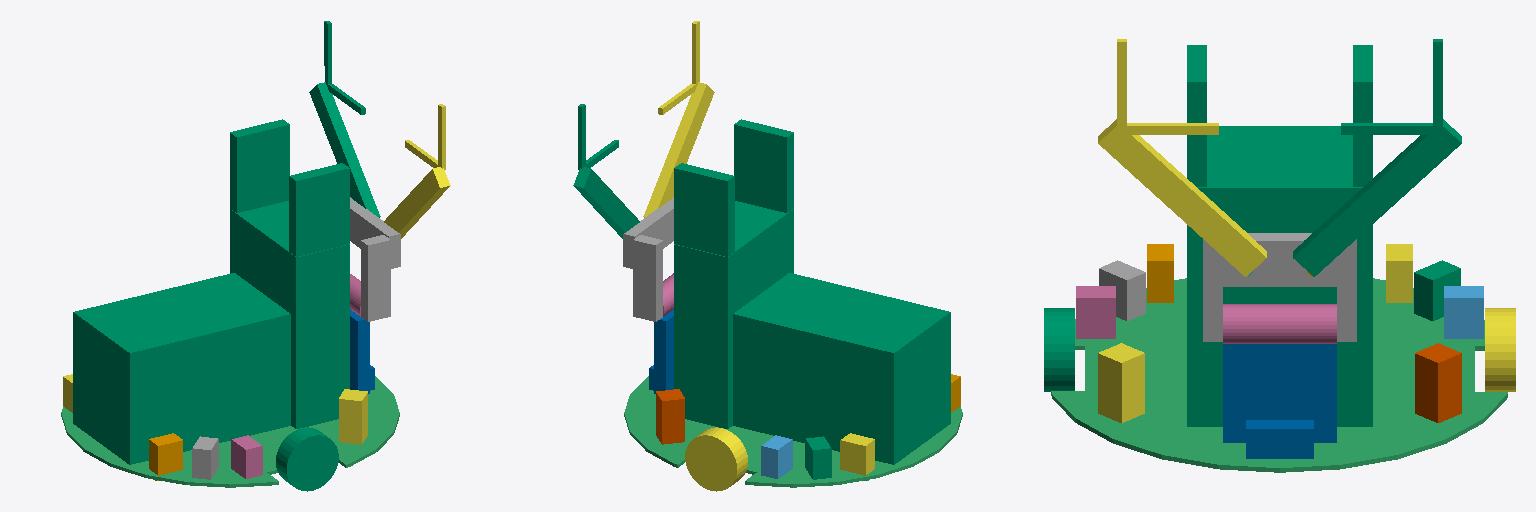
--- What the picture shows (computed from the rendered views, not written in the file) ---
The picture shows the robot from 3 angles, left to right: view 1: azimuth 30°, elevation 25°; view 2: azimuth 150°, elevation 25°; view 3: azimuth 270°, elevation 25°; orthographic projection.
Robot: pibot — 28 links, 27 joints (3 revolute, 2 continuous, 22 fixed); root link base_with_casters; default pose: all joints at 0.
Visible links, largest first — view 1: brainbox_with_battery, base_with_casters, grabber_mount, grabber_arm_left, right_wheel, grabber_arm_right, front_right_45deg_ir, grabber_to_base_1, rear_right_straight_ir, rear_right_90deg_ir, rear_right_45deg_ir; view 2: brainbox_with_battery, base_with_casters, grabber_mount, grabber_arm_right, left_wheel, grabber_arm_left, front_left_45deg_ir, grabber_to_base_1, rear_left_straight_ir, rear_left_90deg_ir, rear_left_45deg_ir; view 3: brainbox_with_battery, base_with_casters, grabber_to_base_1, grabber_arm_right, grabber_arm_left, grabber_mount, grabber_pole, front_right_45deg_ir, front_left_45deg_ir, front_middle_ir, left_wheel, right_wheel (+6 smaller).
Boxes of the visible links, x1,y1,x2,y2 form: brainbox_with_battery: [73, 119, 349, 464]; base_with_casters: [61, 376, 399, 487]; grabber_mount: [350, 197, 400, 321]; grabber_arm_left: [309, 21, 380, 217]; right_wheel: [276, 427, 338, 491]; grabber_arm_right: [384, 104, 450, 238]; front_right_45deg_ir: [339, 389, 367, 444]; grabber_to_base_1: [350, 309, 369, 393]; rear_right_straight_ir: [149, 433, 182, 475]; rear_right_90deg_ir: [231, 435, 262, 478]; rear_right_45deg_ir: [192, 436, 218, 479]; brainbox_with_battery: [674, 119, 950, 464]; base_with_casters: [624, 376, 962, 487]; grabber_mount: [623, 197, 673, 321]; grabber_arm_right: [643, 21, 714, 217]; left_wheel: [685, 427, 747, 491]; grabber_arm_left: [573, 104, 639, 238]; front_left_45deg_ir: [656, 389, 684, 444]; grabber_to_base_1: [654, 309, 673, 393]; rear_left_straight_ir: [840, 433, 874, 475]; rear_left_90deg_ir: [761, 435, 792, 478]; rear_left_45deg_ir: [805, 436, 831, 479]; brainbox_with_battery: [1187, 45, 1372, 426]; base_with_casters: [1051, 278, 1507, 472]; grabber_to_base_1: [1223, 344, 1336, 442]; grabber_arm_right: [1098, 39, 1266, 276]; grabber_arm_left: [1293, 39, 1461, 276]; grabber_mount: [1203, 233, 1356, 341]; grabber_pole: [1223, 304, 1336, 343]; front_right_45deg_ir: [1098, 343, 1144, 422]; front_left_45deg_ir: [1415, 343, 1461, 422]; front_middle_ir: [1246, 420, 1313, 458]; left_wheel: [1485, 308, 1515, 391]; right_wheel: [1044, 308, 1074, 391].
Bounding box of the posed robot: 0.1449 × 0.14 × 0.1491 m (x, y, z).
1 mesh visuals loaded from 1 distinct referenced files (1 Collada DAE).

URDF robot description (pibot):
<?xml version="1.0" encoding="utf-8"?>
<!-- =================================================================================== -->
<!-- |    This document was autogenerated by xacro from [local-path]/catkin_ws/src/pibot_description/models/iti0201_robot/urdf/generate_pibot.urdf.xacro | -->
<!-- |    EDITING THIS FILE BY HAND IS NOT RECOMMENDED                                 | -->
<!-- =================================================================================== -->
<robot name="pibot" xmlns:xacro="http://www.ros.org/wiki/xacro">
  <link name="base_with_casters">
    <inertial>
      <mass value="5"/>
      <inertia ixx="0.0061259375" ixy="0.0" ixz="0.0" iyy="0.0061259375" iyz="0.0" izz="0.01225"/>
    </inertial>
    <visual name="base_visual">
      <origin rpy="0 0 1.57" xyz="0.0745 -0.0725 0.0025"/>
      <geometry>
        <mesh filename="package://iti0201_robot/meshes/base_green.dae"/>
        <!--cylinder length="0.0015" radius="0.07"/-->
      </geometry>
    </visual>
    <collision name="base_collision">
      <origin rpy="0 0 1.57" xyz="0.0745 -0.0725 0.0025"/>
      <geometry>
        <mesh filename="package://iti0201_robot/meshes/base_green.dae"/>
        <!--cylinder length="0.0015" radius="0.07"/-->
      </geometry>
    </collision>
    <visual name="front_caster_visual">
      <origin rpy="0 0 0" xyz="0.035 0 0.0025"/>
      <geometry>
        <sphere radius="0.005"/>
      </geometry>
    </visual>
    <collision name="front_caster_collision">
      <origin rpy="0 0 0" xyz="0.035 0 0.0025"/>
      <geometry>
        <sphere radius="0.005"/>
      </geometry>
    </collision>
    <visual name="rear_caster_visual">
      <origin rpy="0 0 0" xyz="-0.035 0 0.0025"/>
      <geometry>
        <sphere radius="0.005"/>
      </geometry>
    </visual>
    <collision name="rear_caster_collision">
      <origin rpy="0 0 0" xyz="-0.035 0 0.0025"/>
      <geometry>
        <sphere radius="0.005"/>
      </geometry>
    </collision>
  </link>
  <gazebo reference="base_with_casters">
    <surface>
      <friction>
        <ode>
          <mu>0</mu>
          <mu2>0</mu2>
          <slip1>1.0</slip1>
          <slip2>1.0</slip2>
        </ode>
      </friction>
    </surface>
  </gazebo>
  <link name="wheel_joint">
    <inertial>
      <mass value="0.001"/>
      <inertia ixx="1.66666666667e-10" ixy="0.0" ixz="0.0" iyy="1.66666666667e-10" iyz="0.0" izz="1.66666666667e-10"/>
    </inertial>
    <visual name="joint_visual">
      <geometry>
        <box size="0.001 0.001 0.001"/>
      </geometry>
    </visual>
  </link>
  <joint name="Wheel_joint_to_base" type="fixed">
    <origin rpy="0 0 0" xyz="0 0 0.0095"/>
    <child link="wheel_joint"/>
    <parent link="base_with_casters"/>
  </joint>
  <link name="brainbox_with_battery">
    <inertial>
      <mass value="0.001"/>
      <inertia ixx="8.83333333333e-07" ixy="0.0" ixz="0.0" iyy="8.59083333333e-07" iyz="0.0" izz="3.92416666667e-07"/>
    </inertial>
    <visual name="brainbox_visual">
      <origin rpy="0 0 0" xyz="-0.022 0 0.0294"/>
      <geometry>
        <box size="0.077 0.0468 0.0512"/>
      </geometry>
    </visual>
    <visual name="camera_stand_visual">
      <origin rpy="0 0 0" xyz="0.0294 0 0.043"/>
      <geometry>
        <box size="0.0255 0.0553 0.07896"/>
      </geometry>
    </visual>
    <visual name="camera_stand_right_wall_visual">
      <origin rpy="0 0 0" xyz="0.0294 -0.02467 0.1"/>
      <geometry>
        <box size="0.0255 0.006 0.0346"/>
      </geometry>
    </visual>
    <visual name="camera_stand_left_wall_visual">
      <origin rpy="0 0 0" xyz="0.0294 0.02467 0.1"/>
      <geometry>
        <box size="0.0255 0.006 0.0346"/>
      </geometry>
    </visual>
  </link>
  <joint name="brainbox_to_base" type="fixed">
    <origin rpy="0 0 0" xyz="0 0 0"/>
    <child link="brainbox_with_battery"/>
    <parent link="base_with_casters"/>
  </joint>
  <link name="front_right_45deg_ir">
    <inertial>
      <mass value="0.001"/>
      <inertia ixx="4.16666666667e-08" ixy="0.0" ixz="0.0" iyy="1.66666666667e-08" iyz="0.0" izz="4.16666666667e-08"/>
    </inertial>
    <collision name="front_right_45deg_ir_collision">
      <geometry>
        <box size="0.01 0.01 0.02"/>
      </geometry>
    </collision>
    <visual name="front_right_45deg_ir_visual">
      <geometry>
        <box size="0.01 0.01 0.02"/>
      </geometry>
    </visual>
  </link>
  <joint name="front_right_45deg_ir_to_base" type="fixed">
    <origin rpy="0 0 -0.78535" xyz="0.0326 -0.0471 0.0138"/>
    <child link="front_right_45deg_ir"/>
    <parent link="base_with_casters"/>
  </joint>
  <gazebo reference="front_right_45deg_ir">
    <sensor name="ir" type="ray">
      <ray>
        <scan>
          <horizontal>
            <samples>100</samples>
            <resolution>1</resolution>
          </horizontal>
        </scan>
        <range>
          <min>0.15</min>
          <max>1.00</max>
          <resolution>0.01</resolution>
        </range>
      </ray>
      <always_on>1</always_on>
      <update_rate>15</update_rate>
      <visualize>false</visualize>
      <plugin filename="libir_plugin.so" name="ir_plugin">
        <topic>ir/front_right</topic>
      </plugin>
    </sensor>
  </gazebo>
  <link name="front_middle_ir">
    <inertial>
      <mass value="0.001"/>
      <inertia ixx="1.66666666667e-08" ixy="0.0" ixz="0.0" iyy="4.16666666667e-08" iyz="0.0" izz="4.16666666667e-08"/>
    </inertial>
    <collision name="front_middle_ir_collision">
      <geometry>
        <box size="0.01 0.02 0.01"/>
      </geometry>
    </collision>
    <visual name="front_middle_ir_visual">
      <geometry>
        <box size="0.01 0.02 0.01"/>
      </geometry>
    </visual>
  </link>
  <joint name="front_middle_ir_to_base" type="fixed">
    <origin rpy="0 0 0" xyz="0.059312 0 0.0088"/>
    <child link="front_middle_ir"/>
    <parent link="base_with_casters"/>
  </joint>
  <gazebo reference="front_middle_ir">
    <sensor name="ir" type="ray">
      <ray>
        <scan>
          <horizontal>
            <samples>100</samples>
            <resolution>1</resolution>
          </horizontal>
        </scan>
        <range>
          <min>0.15</min>
          <max>1.00</max>
          <resolution>0.01</resolution>
        </range>
      </ray>
      <always_on>1</always_on>
      <update_rate>15</update_rate>
      <visualize>false</visualize>
      <plugin filename="libir_plugin.so" name="ir_plugin">
        <topic>ir/front_middle</topic>
      </plugin>
    </sensor>
  </gazebo>
  <link name="front_left_45deg_ir">
    <inertial>
      <mass value="0.001"/>
      <inertia ixx="4.16666666667e-08" ixy="0.0" ixz="0.0" iyy="1.66666666667e-08" iyz="0.0" izz="4.16666666667e-08"/>
    </inertial>
    <collision name="front_left_45deg_ir_collisionl">
      <geometry>
        <box size="0.01 0.01 0.02"/>
      </geometry>
    </collision>
    <visual name="front_left_45deg_ir_visual">
      <geometry>
        <box size="0.01 0.01 0.02"/>
      </geometry>
    </visual>
  </link>
  <joint name="front_left_45deg_ir_to_base" type="fixed">
    <origin rpy="0 0 0.78535" xyz="0.0326151 0.0470558 0.0138"/>
    <child link="front_left_45deg_ir"/>
    <parent link="base_with_casters"/>
  </joint>
  <gazebo reference="front_left_45deg_ir">
    <sensor name="ir" type="ray">
      <ray>
        <scan>
          <horizontal>
            <samples>100</samples>
            <resolution>1</resolution>
          </horizontal>
        </scan>
        <range>
          <min>0.15</min>
          <max>1.00</max>
          <resolution>0.01</resolution>
        </range>
      </ray>
      <always_on>1</always_on>
      <update_rate>15</update_rate>
      <visualize>false</visualize>
      <plugin filename="libir_plugin.so" name="ir_plugin">
        <topic>ir/front_left</topic>
      </plugin>
    </sensor>
  </gazebo>
  <link name="rear_right_90deg_ir">
    <inertial>
      <mass value="0.001"/>
      <inertia ixx="2.71875e-08" ixy="0.0" ixz="0.0" iyy="1.73333333333e-08" iyz="0.0" izz="2.05208333333e-08"/>
    </inertial>
    <collision name="collision">
      <geometry>
        <box size="0.012 0.008 0.0135"/>
      </geometry>
    </collision>
    <visual name="visual">
      <geometry>
        <box size="0.012 0.008 0.0135"/>
      </geometry>
    </visual>
  </link>
  <joint name="rear_right_90deg_ir_to_base" type="fixed">
    <origin rpy="0 0 -1.5707" xyz="-0.02256 -0.0547 0.01134"/>
    <child link="rear_right_90deg_ir"/>
    <parent link="base_with_casters"/>
  </joint>
  <gazebo reference="rear_right_90deg_ir">
    <sensor name="ir" type="ray">
      <ray>
        <scan>
          <horizontal>
            <samples>100</samples>
            <resolution>1</resolution>
          </horizontal>
        </scan>
        <range>
          <min>0.02</min>
          <max>0.16</max>
          <resolution>0.01</resolution>
        </range>
      </ray>
      <always_on>1</always_on>
      <update_rate>15</update_rate>
      <visualize>false</visualize>
      <plugin filename="libir_plugin.so" name="ir_plugin">
        <topic>ir/rear_right_90</topic>
      </plugin>
    </sensor>
  </gazebo>
  <link name="rear_right_45deg_ir">
    <inertial>
      <mass value="0.001"/>
      <inertia ixx="2.71875e-08" ixy="0.0" ixz="0.0" iyy="1.73333333333e-08" iyz="0.0" izz="2.05208333333e-08"/>
    </inertial>
    <collision name="collision">
      <geometry>
        <box size="0.012 0.008 0.0135"/>
      </geometry>
    </collision>
    <visual name="visual">
      <geometry>
        <box size="0.012 0.008 0.0135"/>
      </geometry>
    </visual>
  </link>
  <joint name="rear_right_45deg_ir_to_base" type="fixed">
    <origin rpy="0 0 -2.35605" xyz="-0.037845 -0.046812 0.011341"/>
    <child link="rear_right_45deg_ir"/>
    <parent link="base_with_casters"/>
  </joint>
  <gazebo reference="rear_right_45deg_ir">
    <sensor name="ir" type="ray">
      <ray>
        <scan>
          <horizontal>
            <samples>100</samples>
            <resolution>1</resolution>
          </horizontal>
        </scan>
        <range>
          <min>0.02</min>
          <max>0.16</max>
          <resolution>0.01</resolution>
        </range>
      </ray>
      <always_on>1</always_on>
      <update_rate>15</update_rate>
      <visualize>false</visualize>
      <plugin filename="libir_plugin.so" name="ir_plugin">
        <topic>ir/rear_right_45</topic>
      </plugin>
    </sensor>
  </gazebo>
  <link name="rear_right_straight_ir">
    <inertial>
      <mass value="0.001"/>
      <inertia ixx="2.71875e-08" ixy="0.0" ixz="0.0" iyy="1.73333333333e-08" iyz="0.0" izz="2.05208333333e-08"/>
    </inertial>
    <collision name="collision">
      <geometry>
        <box size="0.012 0.008 0.0135"/>
      </geometry>
    </collision>
    <visual name="visual">
      <geometry>
        <box size="0.012 0.008 0.0135"/>
      </geometry>
    </visual>
  </link>
  <joint name="rear_right_straight_ir_to_base" type="fixed">
    <origin rpy="0 0 -3.14" xyz="-0.0501109 -0.035473 0.011341"/>
    <child link="rear_right_straight_ir"/>
    <parent link="base_with_casters"/>
  </joint>
  <gazebo reference="rear_right_straight_ir">
    <sensor name="ir" type="ray">
      <ray>
        <scan>
          <horizontal>
            <samples>100</samples>
            <resolution>1</resolution>
          </horizontal>
        </scan>
        <range>
          <min>0.02</min>
          <max>0.16</max>
          <resolution>0.01</resolution>
        </range>
      </ray>
      <always_on>1</always_on>
      <update_rate>15</update_rate>
      <visualize>false</visualize>
      <plugin filename="libir_plugin.so" name="ir_plugin">
        <topic>ir/rear_right_0</topic>
      </plugin>
    </sensor>
  </gazebo>
  <link name="rear_left_90deg_ir">
    <inertial>
      <mass value="0.001"/>
      <inertia ixx="2.71875e-08" ixy="0.0" ixz="0.0" iyy="1.73333333333e-08" iyz="0.0" izz="2.05208333333e-08"/>
    </inertial>
    <collision name="collision">
      <geometry>
        <box size="0.012 0.008 0.0135"/>
      </geometry>
    </collision>
    <visual name="visual">
      <geometry>
        <box size="0.012 0.008 0.0135"/>
      </geometry>
    </visual>
  </link>
  <joint name="rear_left_90deg_ir_to_base" type="fixed">
    <origin rpy="0 0 1.5707" xyz="-0.0225688 0.054749 0.011341"/>
    <child link="rear_left_90deg_ir"/>
    <parent link="base_with_casters"/>
  </joint>
  <gazebo reference="rear_left_90deg_ir">
    <sensor name="ir" type="ray">
      <ray>
        <scan>
          <horizontal>
            <samples>100</samples>
            <resolution>1</resolution>
          </horizontal>
        </scan>
        <range>
          <min>0.02</min>
          <max>0.16</max>
          <resolution>0.01</resolution>
        </range>
      </ray>
      <always_on>1</always_on>
      <update_rate>15</update_rate>
      <visualize>false</visualize>
      <plugin filename="libir_plugin.so" name="ir_plugin">
        <topic>ir/rear_left_90</topic>
      </plugin>
    </sensor>
  </gazebo>
  <link name="rear_left_45deg_ir">
    <inertial>
      <mass value="0.001"/>
      <inertia ixx="2.71875e-08" ixy="0.0" ixz="0.0" iyy="1.73333333333e-08" iyz="0.0" izz="2.05208333333e-08"/>
    </inertial>
    <collision name="collision">
      <geometry>
        <box size="0.012 0.008 0.0135"/>
      </geometry>
    </collision>
    <visual name="visual">
      <geometry>
        <box size="0.012 0.008 0.0135"/>
      </geometry>
    </visual>
  </link>
  <joint name="rear_left_45deg_ir_to_base" type="fixed">
    <origin rpy="0 0 2.35605" xyz="-0.037845 0.046812 0.011341"/>
    <child link="rear_left_45deg_ir"/>
    <parent link="base_with_casters"/>
  </joint>
  <gazebo reference="rear_left_45deg_ir">
    <sensor name="ir" type="ray">
      <ray>
        <scan>
          <horizontal>
            <samples>100</samples>
            <resolution>1</resolution>
          </horizontal>
        </scan>
        <range>
          <min>0.02</min>
          <max>0.16</max>
          <resolution>0.01</resolution>
        </range>
      </ray>
      <always_on>1</always_on>
      <update_rate>15</update_rate>
      <visualize>false</visualize>
      <plugin filename="libir_plugin.so" name="ir_plugin">
        <topic>ir/rear_left_45</topic>
      </plugin>
    </sensor>
  </gazebo>
  <link name="rear_left_straight_ir">
    <inertial>
      <mass value="0.001"/>
      <inertia ixx="2.71875e-08" ixy="0.0" ixz="0.0" iyy="1.73333333333e-08" iyz="0.0" izz="2.05208333333e-08"/>
    </inertial>
    <collision name="collision">
      <geometry>
        <box size="0.012 0.008 0.0135"/>
      </geometry>
    </collision>
    <visual name="visual">
      <geometry>
        <box size="0.012 0.008 0.0135"/>
      </geometry>
    </visual>
  </link>
  <joint name="rear_left_straight_ir_to_base" type="fixed">
    <origin rpy="0 0 3.14" xyz="-0.0501109 0.035473 0.011341"/>
    <child link="rear_left_straight_ir"/>
    <parent link="base_with_casters"/>
  </joint>
  <gazebo reference="rear_left_straight_ir">
    <sensor name="ir" type="ray">
      <pose>0 0 0 0 -0 1.571</pose>
      <ray>
        <scan>
          <horizontal>
            <samples>100</samples>
            <resolution>1</resolution>
          </horizontal>
        </scan>
        <range>
          <min>0.02</min>
          <max>0.16</max>
          <resolution>0.01</resolution>
        </range>
      </ray>
      <always_on>1</always_on>
      <update_rate>15</update_rate>
      <visualize>false</visualize>
      <plugin filename="libir_plugin.so" name="ir_plugin">
        <topic>ir/rear_left_0</topic>
      </plugin>
    </sensor>
  </gazebo>
  <link name="right_side_first_line_sensor_from_middle">
    <inertial>
      <mass value="0.001"/>
      <inertia ixx="1.54166666667e-09" ixy="0.0" ixz="0.0" iyy="1.20833333333e-09" iyz="0.0" izz="7.08333333333e-10"/>
    </inertial>
    <collision name="collision">
      <geometry>
        <box size="0.0015 0.0035 0.0025"/>
      </geometry>
    </collision>
    <visual name="visual">
      <geometry>
        <box size="0.0015 0.0035 0.0025"/>
      </geometry>
    </visual>
  </link>
  <joint name="right_side_first_line_sensor_from_middle_to_base" type="fixed">
    <origin rpy="0 1.5707 0" xyz="-0.0629 -0.005 0.0014545"/>
    <child link="right_side_first_line_sensor_from_middle"/>
    <parent link="base_with_casters"/>
  </joint>
  <gazebo reference="right_side_first_line_sensor_from_middle">
    <sensor name="line_sensor_camera1" type="camera">
      <update_rate>15.0</update_rate>
      <camera name="head">
        <horizontal_fov>0.4</horizontal_fov>
        <image>
          <width>48</width>
          <height>48</height>
          <format>L8</format>
        </image>
        <clip>
          <near>0.001</near>
          <far>0.031</far>
        </clip>
      </camera>
      <always_on>1</always_on>
      <update_rate>15</update_rate>
      <visualize>false</visualize>
      <plugin filename="libgazebo_ros_camera.so" name="camera_controller">
        <alwaysOn>true</alwaysOn>
        <updateRate>15.0</updateRate>
        <cameraName>/robot/line_sensor/right_first</cameraName>
        <imageTopicName>image_raw</imageTopicName>
        <cameraInfoTopicName>camera_info</cameraInfoTopicName>
        <frameName>camera_link</frameName>
        <hackBaseline>0.07</hackBaseline>
        <distortionK1>0.0</distortionK1>
        <distortionK2>0.0</distortionK2>
        <distortionK3>0.0</distortionK3>
        <distortionT1>0.0</distortionT1>
        <distortionT2>0.0</distortionT2>
      </plugin>
    </sensor>
  </gazebo>
  <link name="left_side_first_line_sensor_from_middle">
    <inertial>
      <mass value="0.001"/>
      <inertia ixx="1.54166666667e-09" ixy="0.0" ixz="0.0" iyy="1.20833333333e-09" iyz="0.0" izz="7.08333333333e-10"/>
    </inertial>
    <collision name="collision">
      <geometry>
        <box size="0.0015 0.0035 0.0025"/>
      </geometry>
    </collision>
    <visual name="visual">
      <geometry>
        <box size="0.0015 0.0035 0.0025"/>
      </geometry>
    </visual>
  </link>
  <joint name="left_side_first_line_sensor_from_middle_to_base" type="fixed">
    <origin rpy="0 1.5707 0" xyz="-0.0629 0.005 0.0014545"/>
    <child link="left_side_first_line_sensor_from_middle"/>
    <parent link="base_with_casters"/>
  </joint>
  <gazebo reference="left_side_first_line_sensor_from_middle">
    <sensor name="line_sensor_camera2" type="camera">
      <update_rate>15.0</update_rate>
      <pose>0 0 0 0 1.571 0</pose>
      <camera name="head">
        <horizontal_fov>0.4</horizontal_fov>
        <image>
          <width>48</width>
          <height>48</height>
          <format>L8</format>
        </image>
        <clip>
          <near>0.001</near>
          <far>0.031</far>
        </clip>
      </camera>
      <always_on>1</always_on>
      <update_rate>15</update_rate>
      <visualize>false</visualize>
      <plugin filename="libgazebo_ros_camera.so" name="camera_controller">
        <alwaysOn>true</alwaysOn>
        <updateRate>15.0</updateRate>
        <cameraName>/robot/line_sensor/left_first</cameraName>
        <imageTopicName>image_raw</imageTopicName>
        <cameraInfoTopicName>camera_info</cameraInfoTopicName>
        <frameName>camera_link</frameName>
        <hackBaseline>0.07</hackBaseline>
        <distortionK1>0.0</distortionK1>
        <distortionK2>0.0</distortionK2>
        <distortionK3>0.0</distortionK3>
        <distortionT1>0.0</distortionT1>
        <distortionT2>0.0</distortionT2>
      </plugin>
    </sensor>
  </gazebo>
  <link name="right_side_second_line_sensor_from_middle">
    <inertial>
      <mass value="0.001"/>
      <inertia ixx="1.54166666667e-09" ixy="0.0" ixz="0.0" iyy="1.20833333333e-09" iyz="0.0" izz="7.08333333333e-10"/>
    </inertial>
    <collision name="collision">
      <geometry>
        <box size="0.0015 0.0035 0.0025"/>
      </geometry>
    </collision>
    <visual name="visual">
      <geometry>
        <box size="0.0015 0.0035 0.0025"/>
      </geometry>
    </visual>
  </link>
  <joint name="right_side_second_line_sensor_from_middle_to_base" type="fixed">
    <origin rpy="0 1.5707 0" xyz="-0.06289935 -0.015 0.0014545"/>
    <child link="right_side_second_line_sensor_from_middle"/>
    <parent link="base_with_casters"/>
  </joint>
  <gazebo reference="right_side_second_line_sensor_from_middle">
    <sensor name="line_sensor_camera3" type="camera">
      <update_rate>15.0</update_rate>
      <pose>0 0 0 0 1.571 0</pose>
      <camera name="head">
        <horizontal_fov>0.4</horizontal_fov>
        <image>
          <width>48</width>
          <height>48</height>
          <format>L8</format>
        </image>
        <clip>
          <near>0.001</near>
          <far>0.031</far>
        </clip>
      </camera>
      <always_on>1</always_on>
      <update_rate>15</update_rate>
      <visualize>false</visualize>
      <plugin filename="libgazebo_ros_camera.so" name="camera_controller">
        <alwaysOn>true</alwaysOn>
        <updateRate>15.0</updateRate>
        <cameraName>/robot/line_sensor/right_second</cameraName>
        <imageTopicName>image_raw</imageTopicName>
        <cameraInfoTopicName>camera_info</cameraInfoTopicName>
        <frameName>camera_link</frameName>
        <hackBaseline>0.07</hackBaseline>
        <distortionK1>0.0</distortionK1>
        <distortionK2>0.0</distortionK2>
        <distortionK3>0.0</distortionK3>
        <distortionT1>0.0</distortionT1>
        <distortionT2>0.0</distortionT2>
      </plugin>
    </sensor>
  </gazebo>
  <link name="left_side_second_line_sensor_from_middle">
    <inertial>
      <mass value="0.001"/>
      <inertia ixx="1.54166666667e-09" ixy="0.0" ixz="0.0" iyy="1.20833333333e-09" iyz="0.0" izz="7.08333333333e-10"/>
    </inertial>
    <collision name="collision">
      <geometry>
        <box size="0.0015 0.0035 0.0025"/>
      </geometry>
    </collision>
    <visual name="visual">
      <geometry>
        <box size="0.0015 0.0035 0.0025"/>
      </geometry>
    </visual>
  </link>
  <joint name="left_side_second_line_sensor_from_middle_to_base" type="fixed">
    <origin rpy="0 1.5707 0" xyz="-0.06289935 0.015 0.0014545"/>
    <child link="left_side_second_line_sensor_from_middle"/>
    <parent link="base_with_casters"/>
  </joint>
  <gazebo reference="left_side_second_line_sensor_from_middle">
    <sensor name="line_sensor_camera4" type="camera">
      <update_rate>15.0</update_rate>
      <pose>0 0 0 0 1.571 0</pose>
      <camera name="head">
        <horizontal_fov>0.4</horizontal_fov>
        <image>
          <width>48</width>
          <height>48</height>
          <format>L8</format>
        </image>
        <clip>
          <near>0.001</near>
          <far>0.031</far>
        </clip>
      </camera>
      <always_on>1</always_on>
      <update_rate>15</update_rate>
      <visualize>false</visualize>
      <plugin filename="libgazebo_ros_camera.so" name="camera_controller">
        <alwaysOn>true</alwaysOn>
        <updateRate>15.0</updateRate>
        <cameraName>/robot/line_sensor/left_second</cameraName>
        <imageTopicName>image_raw</imageTopicName>
        <cameraInfoTopicName>camera_info</cameraInfoTopicName>
        <frameName>camera_link</frameName>
        <hackBaseline>0.07</hackBaseline>
        <distortionK1>0.0</distortionK1>
        <distortionK2>0.0</distortionK2>
        <distortionK3>0.0</distortionK3>
        <distortionT1>0.0</distortionT1>
        <distortionT2>0.0</distortionT2>
      </plugin>
    </sensor>
  </gazebo>
  <link name="right_side_third_line_sensor_from_middle">
    <inertial>
      <mass value="0.001"/>
      <inertia ixx="1.54166666667e-09" ixy="0.0" ixz="0.0" iyy="1.20833333333e-09" iyz="0.0" izz="7.08333333333e-10"/>
    </inertial>
    <collision name="collision">
      <geometry>
        <box size="0.0015 0.0035 0.0025"/>
      </geometry>
    </collision>
    <visual name="visual">
      <geometry>
        <box size="0.0015 0.0035 0.0025"/>
      </geometry>
    </visual>
  </link>
  <joint name="right_side_third_line_sensor_from_middle_to_base" type="fixed">
    <origin rpy="0 1.5707 0" xyz="-0.0541 -0.035 0.0014545"/>
    <child link="right_side_third_line_sensor_from_middle"/>
    <parent link="base_with_casters"/>
  </joint>
  <gazebo reference="right_side_third_line_sensor_from_middle">
    <sensor name="line_sensor_camera5" type="camera">
      <update_rate>15.0</update_rate>
      <pose>0 0 0 0 1.571 0</pose>
      <camera name="head">
        <horizontal_fov>0.4</horizontal_fov>
        <image>
          <width>48</width>
          <height>48</height>
          <format>L8</format>
        </image>
        <clip>
          <near>0.001</near>
          <far>0.031</far>
        </clip>
      </camera>
      <always_on>1</always_on>
      <update_rate>15</update_rate>
      <visualize>false</visualize>
      <plugin filename="libgazebo_ros_camera.so" name="camera_controller">
        <alwaysOn>true</alwaysOn>
        <updateRate>15.0</updateRate>
        <cameraName>/robot/line_sensor/right_third</cameraName>
        <imageTopicName>image_raw</imageTopicName>
        <cameraInfoTopicName>camera_info</cameraInfoTopicName>
        <frameName>camera_link</frameName>
        <hackBaseline>0.07</hackBaseline>
        <distortionK1>0.0</distortionK1>
        <distortionK2>0.0</distortionK2>
        <distortionK3>0.0</distortionK3>
        <distortionT1>0.0</distortionT1>
        <distortionT2>0.0</distortionT2>
      </plugin>
    </sensor>
  </gazebo>
  <link name="left_side_third_line_sensor_from_middle">
    <inertial>
      <mass value="0.001"/>
      <inertia ixx="1.54166666667e-09" ixy="0.0" ixz="0.0" iyy="1.20833333333e-09" iyz="0.0" izz="7.08333333333e-10"/>
    </inertial>
    <collision name="collision">
      <geometry>
        <box size="0.0015 0.0035 0.0025"/>
      </geometry>
    </collision>
    <visual name="visual">
      <geometry>
        <box size="0.0015 0.0035 0.0025"/>
      </geometry>
    </visual>
  </link>
  <joint name="left_side_third_line_sensor_from_middle_to_base" type="fixed">
    <origin rpy="0 1.5707 0" xyz="-0.0541 0.035 0.0014545"/>
    <child link="left_side_third_line_sensor_from_middle"/>
    <parent link="base_with_casters"/>
  </joint>
  <gazebo reference="left_side_third_line_sensor_from_middle">
    <sensor name="line_sensor_camera6" type="camera">
      <update_rate>15.0</update_rate>
      <pose>0 0 0 0 1.571 0</pose>
      <camera name="head">
        <horizontal_fov>0.4</horizontal_fov>
        <image>
          <width>48</width>
          <height>48</height>
          <format>L8</format>
        </image>
        <clip>
          <near>0.001</near>
          <far>0.031</far>
        </clip>
      </camera>
      <always_on>1</always_on>
      <update_rate>15</update_rate>
      <visualize>false</visualize>
      <plugin filename="libgazebo_ros_camera.so" name="camera_controller">
        <alwaysOn>true</alwaysOn>
        <updateRate>15.0</updateRate>
        <cameraName>/robot/line_sensor/left_third</cameraName>
        <imageTopicName>image_raw</imageTopicName>
        <cameraInfoTopicName>camera_info</cameraInfoTopicName>
        <frameName>camera_link</frameName>
        <hackBaseline>0.07</hackBaseline>
        <distortionK1>0.0</distortionK1>
        <distortionK2>0.0</distortionK2>
        <distortionK3>0.0</distortionK3>
        <distortionT1>0.0</distortionT1>
        <distortionT2>0.0</distortionT2>
      </plugin>
    </sensor>
  </gazebo>
  <link name="right_wheel">
    <inertial>
      <mass value="1"/>
      <inertia ixx="4.58125e-05" ixy="0.0" ixz="0.0" iyy="4.58125e-05" iyz="0.0" izz="7.8125e-05"/>
    </inertial>
    <visual name="right_wheel_visual">
      <origin rpy="0 0 0" xyz="0 0 0"/>
      <geometry>
        <cylinder length="0.009" radius="0.0125"/>
      </geometry>
    </visual>
    <collision name="right_wheel_collision">
      <origin rpy="0 0 0" xyz="0 0 0"/>
      <geometry>
        <cylinder length="0.009" radius="0.0125"/>
      </geometry>
    </collision>
  </link>
  <gazebo reference="right_wheel">
    <mu1 value="1.0"/>
    <mu2 value="1.0"/>
    <kp value="10000000.0"/>
    <kd value="1.0"/>
    <fdir1 value="1 0 0"/>
  </gazebo>
  <joint name="right_wheel_hinge" type="continuous">
    <origin rpy="0 1.5707 1.5707" xyz="0 -0.0655 0"/>
    <child link="right_wheel"/>
    <parent link="wheel_joint"/>
    <!--proovisin erinevaid väärtusi siia "limit" alla, midagi ei muutunud -->
    <limit effort="10.0" velocity="1.0"/>
    <axis rpy="0 0 0" xyz="0 0 1"/>
  </joint>
  <link name="left_wheel">
    <inertial>
      <mass value="1"/>
      <inertia ixx="4.58125e-05" ixy="0.0" ixz="0.0" iyy="4.58125e-05" iyz="0.0" izz="7.8125e-05"/>
    </inertial>
    <visual name="left_wheel_visual">
      <origin rpy="0 0 0" xyz="0 0 0"/>
      <geometry>
        <cylinder length="0.009" radius="0.0125"/>
      </geometry>
    </visual>
    <collision name="left_wheel_collision">
      <origin rpy="0 0 0" xyz="0 0 0"/>
      <geometry>
        <cylinder length="0.009" radius="0.0125"/>
      </geometry>
    </collision>
  </link>
  <gazebo reference="left_wheel">
    <mu1 value="1.0"/>
    <mu2 value="1.0"/>
    <kp value="10000000.0"/>
    <kd value="1.0"/>
    <fdir1 value="1 0 0"/>
  </gazebo>
  <joint name="left_wheel_hinge" type="continuous">
    <origin rpy="0 1.5707 1.5707" xyz="0 0.0655 0"/>
    <child link="left_wheel"/>
    <parent link="wheel_joint"/>
    <limit effort="10.0" velocity="1.0"/>
    <axis rpy="0 0 0" xyz="0 0 1"/>
  </joint>
  <gazebo>
    <plugin filename="libwheel_plugin.so" name="wheel_plugin"/>
  </gazebo>
  <link name="grabber_to_base_1">
    <inertial>
      <mass value="0.001"/>
      <inertia ixx="0.0000337" ixy="0.0" ixz="0.0" iyy="0.0000493" iyz="0.0" izz="0.0000248"/>
    </inertial>
    <collision name="arm_to_base_col">
      <geometry>
        <box size=".006 .034 .03455"/>
      </geometry>
    </collision>
    <visual name="arm_to_base_vis">
      <geometry>
        <box size=".006 .034 .03455"/>
      </geometry>
    </visual>
  </link>
  <joint name="grabber_to_base_joint_1" type="fixed">
    <origin rpy="0 0 0" xyz="0.055 0 0.0235"/>
    <child link="grabber_to_base_1"/>
    <parent link="base_with_casters"/>
  </joint>
  <link name="pole_rotation_reference">
    <inertial>
      <mass value="0.001"/>
      <inertia ixx="0.0000337" ixy="0.0" ixz="0.0" iyy="0.0000493" iyz="0.0" izz="0.0000248"/>
    </inertial>
    <collision name="pole_rotation_reference_col">
      <geometry>
        <box size=".001 .001 .001"/>
      </geometry>
    </collision>
    <visual name="pole_rotation_reference_vis">
      <geometry>
        <box size=".001 .001 .001"/>
      </geometry>
    </visual>
  </link>
  <joint name="pole_rotation_reference_to_base" type="fixed">
    <origin rpy="0 1.5707 1.5707" xyz="0.059 0 0.04555"/>
    <child link="pole_rotation_reference"/>
    <parent link="base_with_casters"/>
  </joint>
  <link name="grabber_pole">
    <inertial>
      <mass value="0.001"/>
      <inertia ixx="0.0000337" ixy="0.0" ixz="0.0" iyy="0.0000493" iyz="0.0" izz="0.0000248"/>
    </inertial>
    <collision name="the_pole_col">
      <geometry>
        <cylinder length=".034" radius=".006"/>
      </geometry>
    </collision>
    <visual name="the_pole_vis">
      <geometry>
        <cylinder length=".034" radius=".006"/>
      </geometry>
    </visual>
  </link>
  <!-- TODO -->
  <joint name="grabber_pole" type="revolute">
    <origin rpy="0 0 0" xyz="0 0 0"/>
    <child link="grabber_pole"/>
    <parent link="pole_rotation_reference"/>
    <limit effort="10.0" lower="0.0" upper="1.5" velocity="1.0"/>
    <axis xyz="0 0 1"/>
  </joint>
  <link name="grabber_mount">
    <collision name="arm_collision_left">
      <origin rpy="0 0 0" xyz="0.0144 0.02 0"/>
      <geometry>
        <box size=".035 .006 .011"/>
      </geometry>
    </collision>
    <visual name="arm_visual_left">
      <origin rpy="0 0 0" xyz="0.0144 0.02 0"/>
      <geometry>
        <box size=".035 .006 .011"/>
      </geometry>
    </visual>
    <collision name="arm_collision_right">
      <origin rpy="0 0 0" xyz="0.0144 -0.02 0"/>
      <geometry>
        <box size=".035 .006 .011"/>
      </geometry>
    </collision>
    <visual name="arm_visual_right">
      <origin rpy="0 0 0" xyz="0.0144 -0.02 0"/>
      <geometry>
        <box size=".035 .006 .011"/>
      </geometry>
    </visual>
    <collision name="collision_under">
      <origin rpy="0 0 0" xyz="0.025 0 -0.00855"/>
      <geometry>
        <box size=".015 .042 .0057"/>
      </geometry>
    </collision>
    <visual name="visual_under">
      <origin rpy="0 0 0" xyz="0.025 0 -0.00855"/>
      <geometry>
        <box size=".015 .042 .0057"/>
      </geometry>
    </visual>
    <inertial>
      <mass value="0.001"/>
      <inertia ixx="0.0000337" ixy="0.0" ixz="0.0" iyy="0.0000493" iyz="0.0" izz="0.0000248"/>
    </inertial>
  </link>
  <joint name="grabber_mount_to_pole" type="fixed">
    <origin rpy="1.5707 0 3.1414" xyz="0 0 0"/>
    <child link="grabber_mount"/>
    <parent link="grabber_pole"/>
  </joint>
  <link name="grabber_left_arm_joint">
    <collision name="collision_for_left_arm_joint">
      <geometry>
        <cylinder length=".004" radius=".002"/>
      </geometry>
    </collision>
    <visual name="visual_for_left_arm_joint">
      <geometry>
        <cylinder length=".004" radius=".002"/>
      </geometry>
    </visual>
    <inertial>
      <mass value="0.001"/>
      <inertia ixx="0.0000337" ixy="0.0" ixz="0.0" iyy="0.0000493" iyz="0.0" izz="0.0000248"/>
    </inertial>
  </link>
  <!-- TODO -->
  <joint name="grabber_left_arm_joint_to_grabber_mount" type="revolute">
    <origin rpy="0 3.1414 0" xyz="0.025 0.01 -0.01355"/>
    <child link="grabber_left_arm_joint"/>
    <parent link="grabber_mount"/>
    <limit effort="10.0" lower="0.0" upper="0.7" velocity="1.0"/>
    <axis xyz="0 0 1"/>
  </joint>
  <link name="grabber_right_arm_joint">
    <collision name="collision_for_right_arm_joint">
      <geometry>
        <cylinder length=".004" radius=".002"/>
      </geometry>
    </collision>
    <visual name="visual_for_right_arm_joint">
      <geometry>
        <cylinder length=".004" radius=".002"/>
      </geometry>
    </visual>
    <inertial>
      <mass value="0.001"/>
      <inertia ixx="0.0000337" ixy="0.0" ixz="0.0" iyy="0.0000493" iyz="0.0" izz="0.0000248"/>
    </inertial>
  </link>
  <!-- TODO -->
  <joint name="grabber_right_arm_joint_to_grabber_mount" type="revolute">
    <origin rpy="0 3.1414 0" xyz="0.025 -0.01 -0.01355"/>
    <child link="grabber_right_arm_joint"/>
    <parent link="grabber_mount"/>
    <limit effort="10.0" lower="0.0" upper="-0.7" velocity="1.0"/>
    <axis xyz="0 0 1"/>
  </joint>
  <link name="grabber_arm_left">
    <collision name="main_arm_collision_l">
      <origin rpy="0 0 0.78535" xyz="0.023 0.019 0"/>
      <geometry>
        <box size=".06213 .009 .005"/>
      </geometry>
    </collision>
    <visual name="main_arm_visual_l">
      <origin rpy="0 0 0.78535" xyz="0.023 0.019 0"/>
      <geometry>
        <box size=".06213 .009 .005"/>
      </geometry>
    </visual>
    <collision name="small_arm_collision_l_f">
      <origin rpy="0 0 0" xyz="0.061 0.037 -0.0025"/>
      <geometry>
        <box size=".029 .003 .002"/>
      </geometry>
    </collision>
    <visual name="small_arm_visual_l_f">
      <origin rpy="0 0 0" xyz="0.061 0.037 -0.0025"/>
      <geometry>
        <box size=".029 .003 .002"/>
      </geometry>
    </visual>
    <collision name="small_arm_collision_l_b">
      <origin rpy="0 0 -1.5707" xyz="0.0465 0.0225 -0.0025"/>
      <geometry>
        <box size=".029 .003 .002"/>
      </geometry>
    </collision>
    <visual name="small_arm_visual_l_b">
      <origin rpy="0 0 -1.5707" xyz="0.0465 0.0225 -0.0025"/>
      <geometry>
        <box size=".029 .003 .002"/>
      </geometry>
    </visual>
    <inertial>
      <mass value="0.001"/>
      <inertia ixx="0.0000337" ixy="0.0" ixz="0.0" iyy="0.0000493" iyz="0.0" izz="0.0000248"/>
    </inertial>
  </link>
  <joint name="grabber_arm_left_to_grabber_joint" type="fixed">
    <origin rpy="0 3.1414 0" xyz="0 0 0"/>
    <child link="grabber_arm_left"/>
    <parent link="grabber_left_arm_joint"/>
  </joint>
  <link name="grabber_arm_right">
    <collision name="main_arm_collision_r">
      <origin rpy="0 0 -0.78535" xyz="0.023 -0.019 0"/>
      <geometry>
        <box size=".06213 .009 .005"/>
      </geometry>
    </collision>
    <visual name="main_arm_visual_r">
      <origin rpy="0 0 -0.78535" xyz="0.023 -0.019 0"/>
      <geometry>
        <box size=".06213 .009 .005"/>
      </geometry>
    </visual>
    <collision name="small_arm_collision_r_f">
      <origin rpy="0 0 0" xyz="0.061 -0.037 -0.0025"/>
      <geometry>
        <box size=".029 .003 .002"/>
      </geometry>
    </collision>
    <visual name="small_arm_visual_r_f">
      <origin rpy="0 0 0" xyz="0.061 -0.037 -0.0025"/>
      <geometry>
        <box size=".029 .003 .002"/>
      </geometry>
    </visual>
    <collision name="small_arm_collision_r_b">
      <origin rpy="0 0 -1.5707" xyz="0.0465 -0.0225 -0.0025"/>
      <geometry>
        <box size=".029 .003 .002"/>
      </geometry>
    </collision>
    <visual name="small_arm_visual_r_b">
      <origin rpy="0 0 -1.5707" xyz="0.0465 -0.0225 -0.0025"/>
      <geometry>
        <box size=".029 .003 .002"/>
      </geometry>
    </visual>
    <inertial>
      <mass value="0.001"/>
      <inertia ixx="0.0000337" ixy="0.0" ixz="0.0" iyy="0.0000493" iyz="0.0" izz="0.0000248"/>
    </inertial>
  </link>
  <joint name="grabber_arm_right_to_grabber_joint" type="fixed">
    <origin rpy="0 3.1414 0" xyz="0 0 0"/>
    <child link="grabber_arm_right"/>
    <parent link="grabber_right_arm_joint"/>
  </joint>
  <gazebo>
    <plugin filename="libgrabber_plugin.so" name="grabber_plugin"/>
  </gazebo>
</robot>
